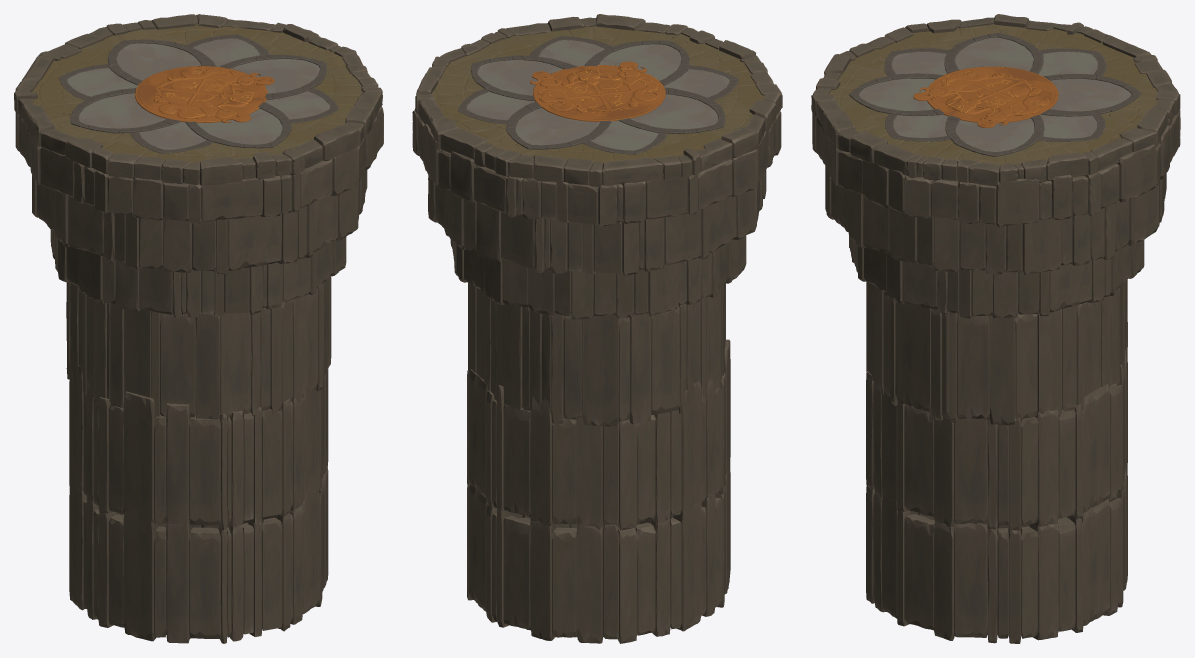
The model's file is GrandmaBossGround.fbx.
3 views of the same model, side by side, from view 1: azimuth 30°, elevation 25°; view 2: azimuth 150°, elevation 25°; view 3: azimuth 270°, elevation 25° (orthographic).
Parts seen in each view (by area): view 1: StoneSideFloor (6), StoneSideFloor (5), StoneSideFloor (4), StoneSideFloor (2), StoneSideFloor, StoneSideFloor (1), StoneSideFloor (3), flowerPattern1, StoneFloor, coatBase, coatOfArms, stoneFlowerFloor2 (+4 smaller); view 2: StoneSideFloor (6), StoneSideFloor (5), StoneSideFloor (4), StoneSideFloor (2), StoneSideFloor, StoneSideFloor (1), StoneSideFloor (3), flowerPattern1, StoneFloor, coatBase, coatOfArms, stoneFlowerFloor2 (+3 smaller); view 3: StoneSideFloor (6), StoneSideFloor (5), StoneSideFloor (4), StoneSideFloor (2), StoneSideFloor (1), StoneSideFloor, flowerPattern1, StoneSideFloor (3), StoneFloor, coatBase, coatOfArms, stoneFlowerFloor5 (+3 smaller).
Part boxes in pixels (box(x1,y1,x2,y2)): StoneSideFloor (6): box(69, 467, 328, 643); StoneSideFloor (5): box(69, 360, 328, 530); StoneSideFloor (4): box(66, 276, 331, 419); StoneSideFloor (2): box(32, 170, 367, 274); StoneSideFloor: box(14, 14, 382, 185); StoneSideFloor (1): box(15, 106, 383, 224); StoneSideFloor (3): box(50, 229, 346, 318); flowerPattern1: box(67, 38, 329, 149); StoneFloor: box(31, 23, 362, 163); coatBase: box(135, 66, 267, 122); coatOfArms: box(156, 78, 234, 108); stoneFlowerFloor2: box(70, 88, 180, 133); StoneSideFloor (6): box(467, 457, 730, 643); StoneSideFloor (5): box(467, 339, 730, 530); StoneSideFloor (4): box(468, 283, 725, 426); StoneSideFloor (2): box(428, 169, 766, 276); StoneSideFloor: box(415, 14, 782, 187); StoneSideFloor (1): box(412, 108, 781, 226); StoneSideFloor (3): box(450, 235, 746, 319); flowerPattern1: box(467, 40, 729, 150); StoneFloor: box(432, 26, 764, 163); coatBase: box(533, 65, 665, 121); coatOfArms: box(563, 78, 634, 111); stoneFlowerFloor2: box(618, 87, 725, 133); StoneSideFloor (6): box(866, 466, 1127, 643); StoneSideFloor (5): box(866, 341, 1127, 530); StoneSideFloor (4): box(866, 279, 1127, 425); StoneSideFloor (2): box(825, 166, 1166, 275); StoneSideFloor (1): box(812, 110, 1180, 226); StoneSideFloor: box(811, 14, 1180, 187); flowerPattern1: box(859, 37, 1131, 151); StoneSideFloor (3): box(849, 236, 1144, 318); StoneFloor: box(829, 24, 1157, 165); coatBase: box(927, 66, 1058, 123); coatOfArms: box(955, 77, 1031, 110); stoneFlowerFloor5: box(1041, 73, 1141, 116).
Size of the model in its own units: 53.96 by 80.3 by 53.86.
